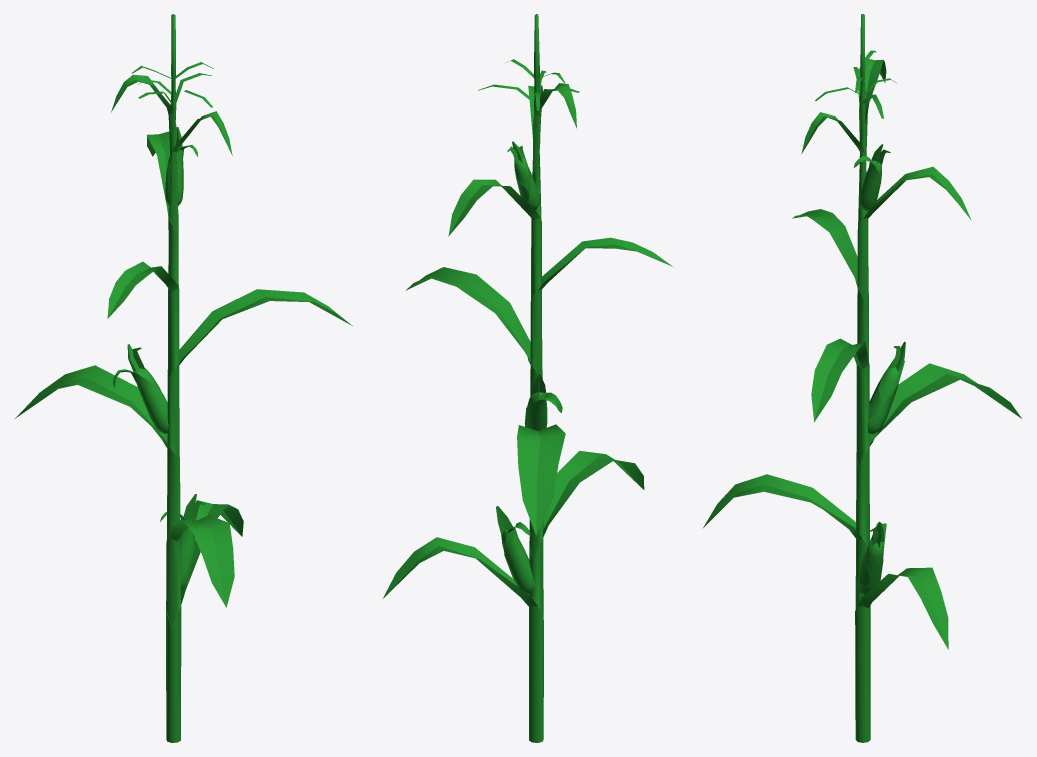
Rendered from SM_Corn_Growing4.fbx.
The picture shows the model from 3 angles, left to right: view 1: azimuth 30°, elevation 25°; view 2: azimuth 150°, elevation 25°; view 3: azimuth 270°, elevation 25°; orthographic projection.
Parts seen in each view (by area): view 1: SM_Corn_Growing4; view 2: SM_Corn_Growing4; view 3: SM_Corn_Growing4.
Part boxes in pixels (x1=…): SM_Corn_Growing4: x1=15, y1=14, x2=352, y2=742; SM_Corn_Growing4: x1=382, y1=14, x2=672, y2=742; SM_Corn_Growing4: x1=703, y1=14, x2=1021, y2=742.
Bounding box in the file's own units: 79.04 × 213 × 85.14.
